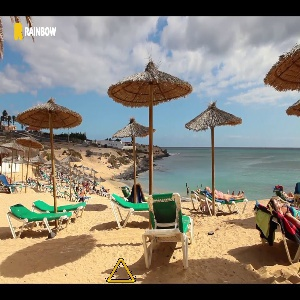triangle: (103, 255, 138, 284)
